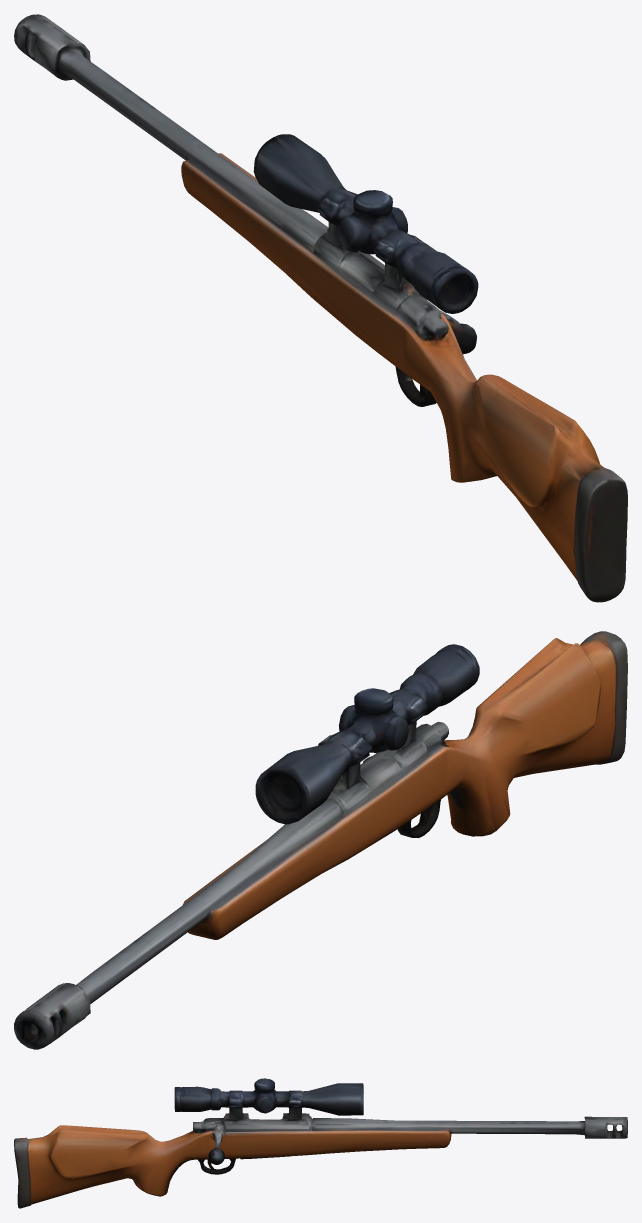
Rendered from r_scout.glb.
3 views of the same model, one above another, from view 1: azimuth 30°, elevation 25°; view 2: azimuth 150°, elevation 25°; view 3: azimuth 270°, elevation 25° (orthographic). The views are drawn at different scales.
Parts seen in each view (by area): view 1: node_0; view 2: node_0; view 3: node_0.
Boxes of the visible parts, x1,y1,x2,y2 form: node_0: (14, 14, 627, 602); node_0: (14, 631, 627, 1049); node_0: (14, 1078, 627, 1208).
Size of the model in its own units: 0.121 by 0.3128 by 1.39.
1 material, 1 textured.
